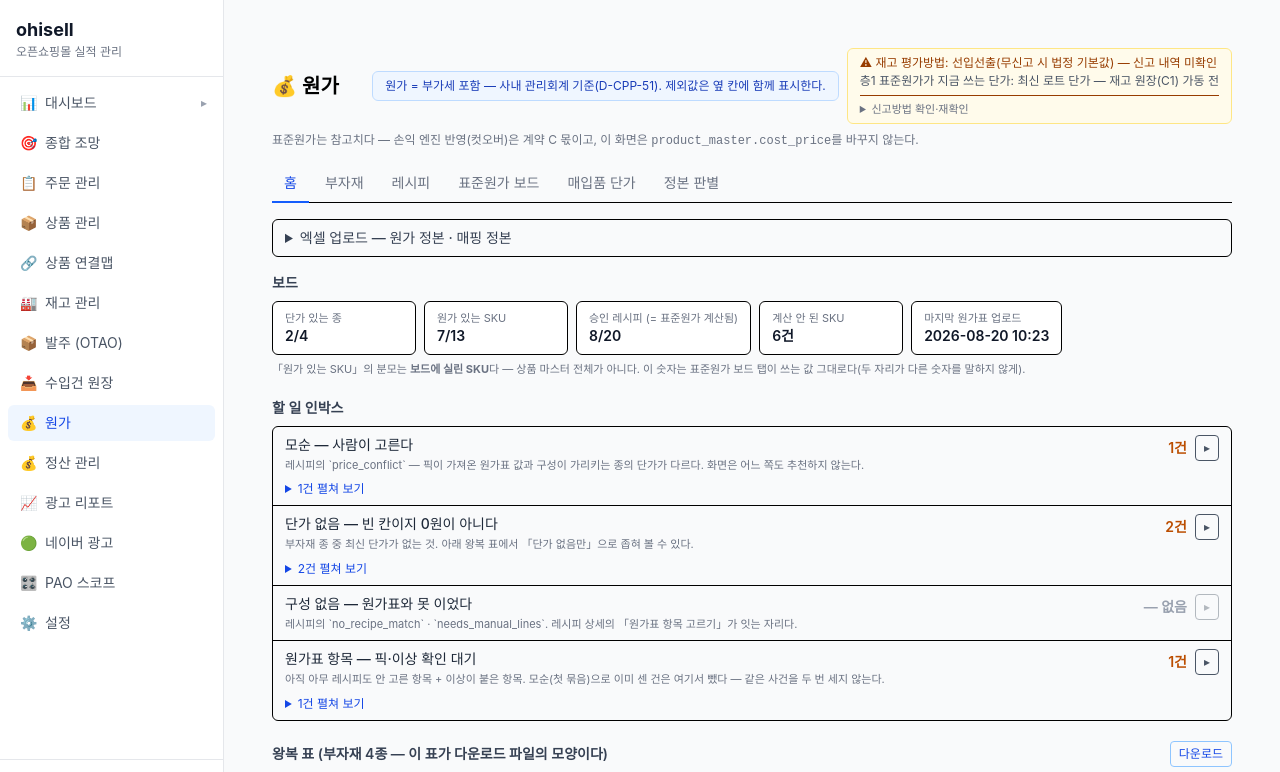
Test case: H3: 할 일 인박스 — 0건과 «없음»이 같은 화면이 되지 않는다 › 단가 없음 묶음 — M2·M4 둘 다 뜨고, 엑셀 참고값이 있는 쪽만 그 사실을 말한다
Expected: the heading "💰 원가" is shown, [272,72,339,100]
Expected: the element with test id "cost-home-board-strip" is shown, [272,274,1062,376]
Click the heading "2건 펼쳐 보기" at (332, 568), box [298,561,367,576]
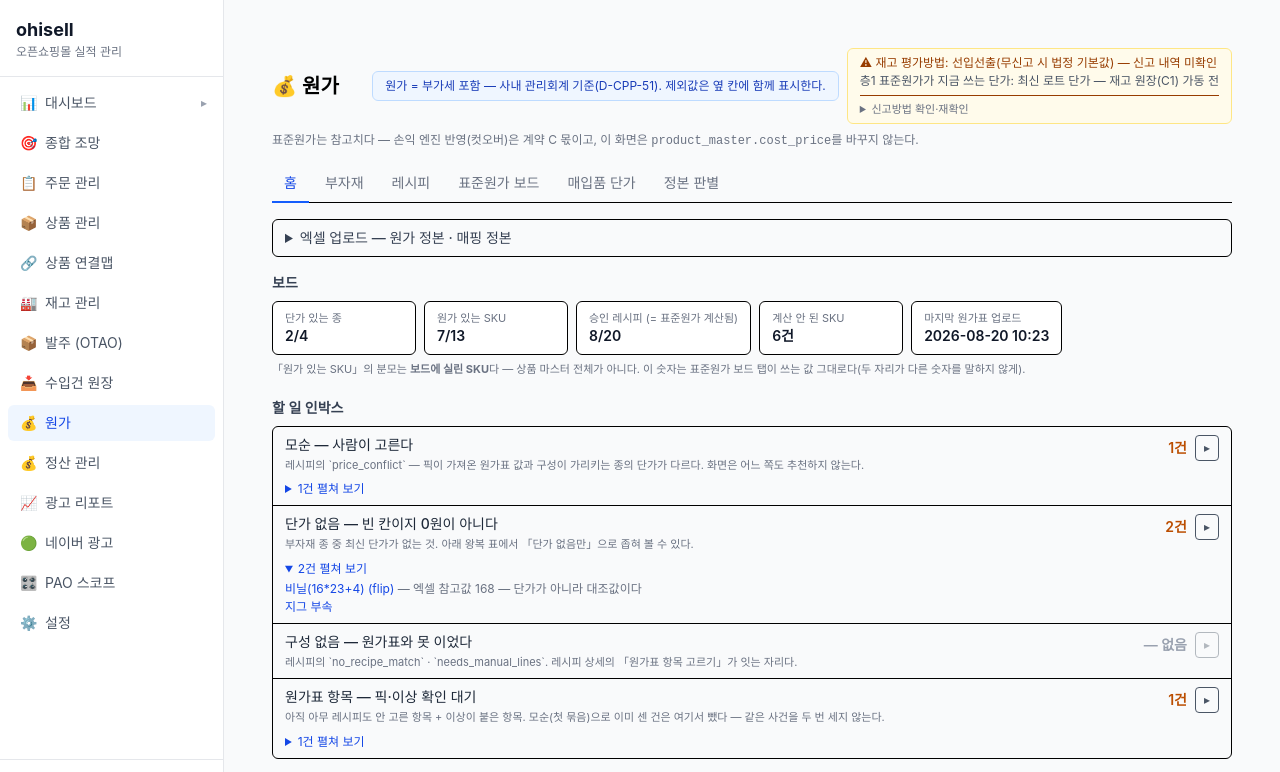
Now the button "비닐(16*23+4) (flip)" is shown, box [285,581,394,597]
Now the text "— 엑셀 참고값 168 — 단가가 아니라 대조값이다" is shown, box [394,581,642,596]
Now the button "지그 부속" is shown, box [285,599,332,615]
